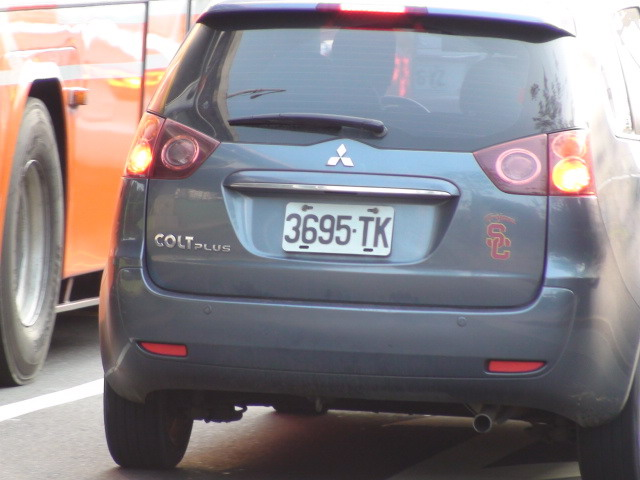plate: (281, 198, 398, 262)
